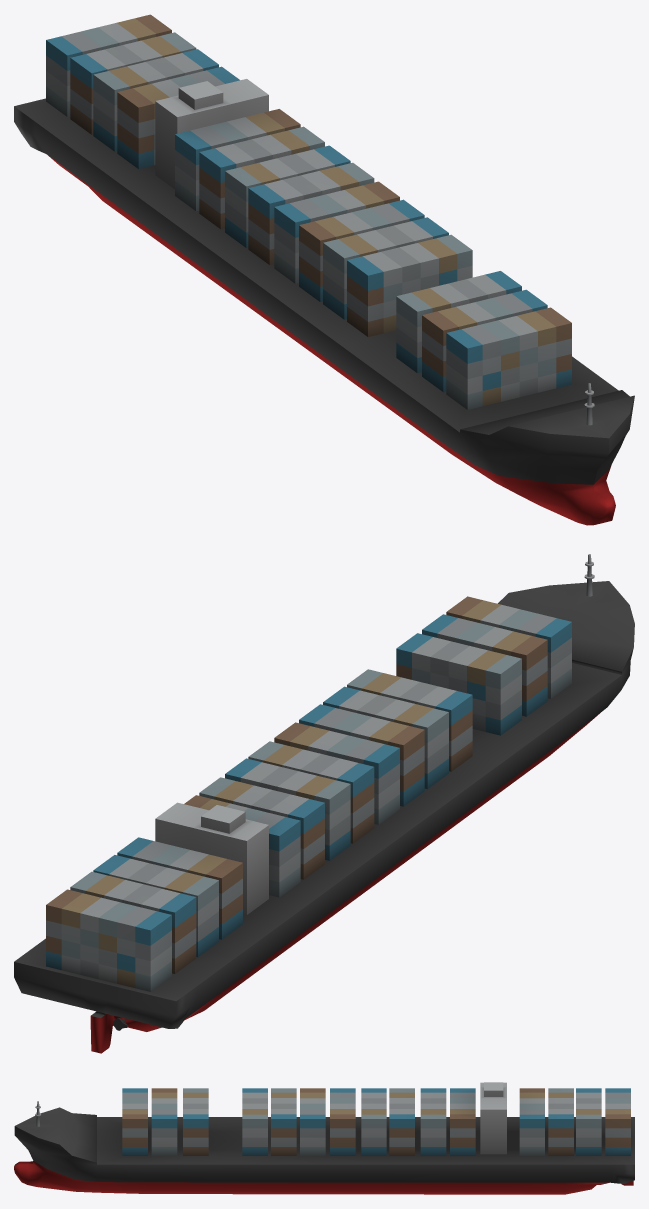
Rendered from vehicles-boats-container-ship_v1.fbx.
The picture shows the model from 3 angles, top to bottom: view 1: azimuth 30°, elevation 25°; view 2: azimuth 150°, elevation 25°; view 3: azimuth 270°, elevation 25°; orthographic projection. The views are drawn at different scales.
Visible parts, largest first — view 1: Container Ship; view 2: Container Ship; view 3: Container Ship.
Boxes of the visible parts, x1=… form: Container Ship: x1=14, y1=14, x2=634, y2=525; Container Ship: x1=14, y1=554, x2=634, y2=1053; Container Ship: x1=14, y1=1082, x2=634, y2=1194.
Bounding box in the file's own units: 63.73 × 60.01 × 350.
